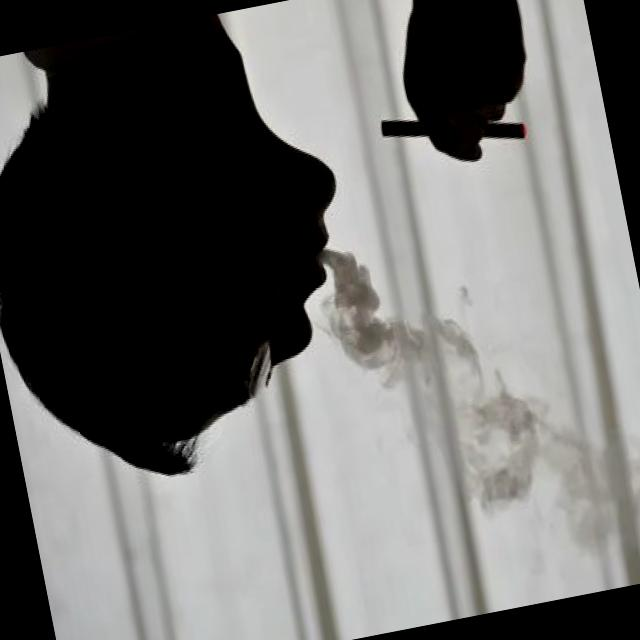cigarette: (376, 82, 535, 170)
